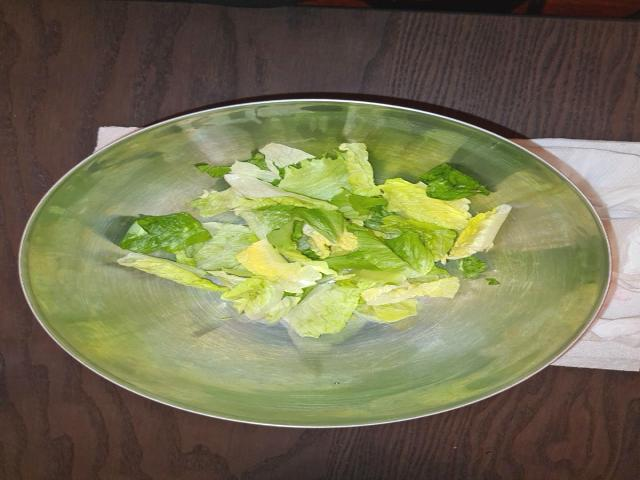kichen waste: (116, 142, 508, 338)
